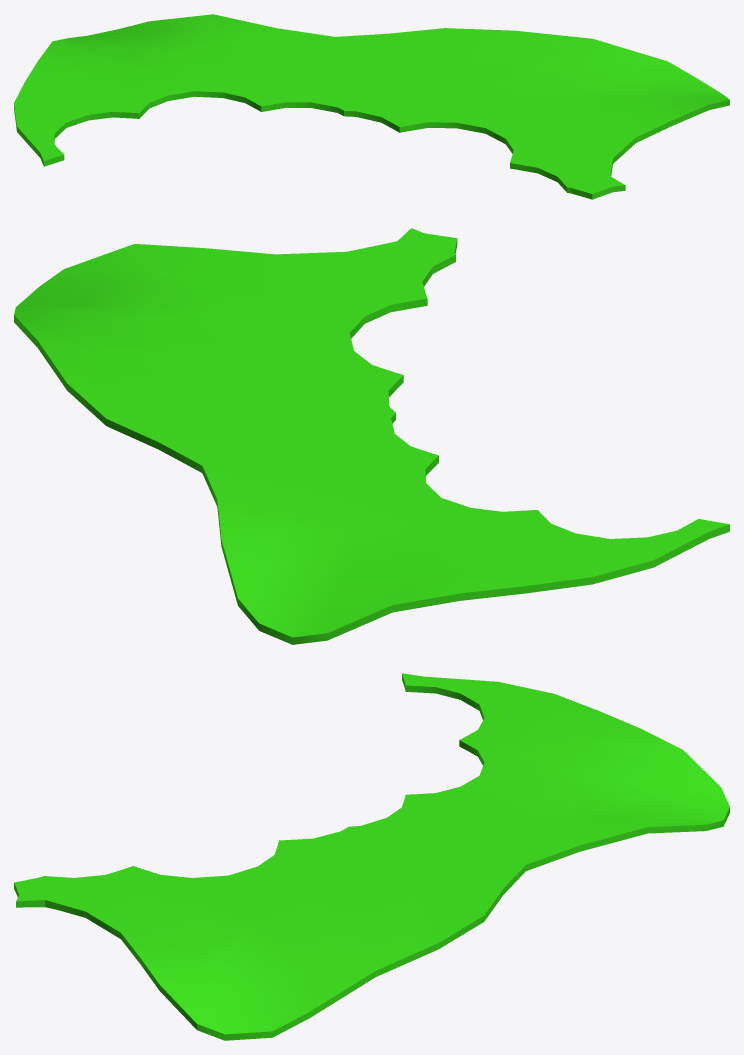
File: salad_6.fbx
The picture shows the model from 3 angles, top to bottom: view 1: azimuth 30°, elevation 25°; view 2: azimuth 150°, elevation 25°; view 3: azimuth 270°, elevation 25°; orthographic projection. The views are drawn at different scales.
Parts seen in each view (by area): view 1: Salad_0.006; view 2: Salad_0.006; view 3: Salad_0.006.
Boxes of the visible parts, x1,y1,x2,y2 form: Salad_0.006: (14,14,729,199); Salad_0.006: (14,228,729,644); Salad_0.006: (14,673,729,1040).
Bounding box in the file's own units: 261 × 13.1 × 236.
